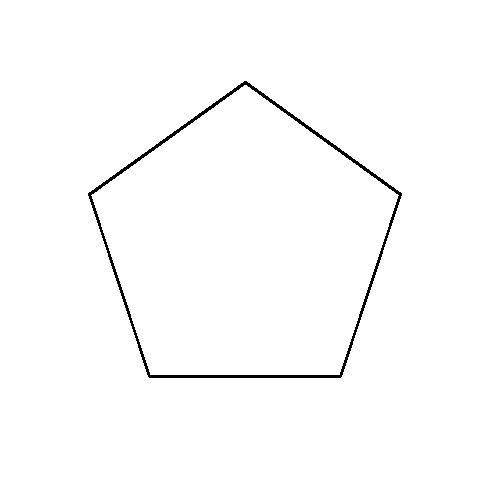line_segment: (88, 80, 402, 379)
